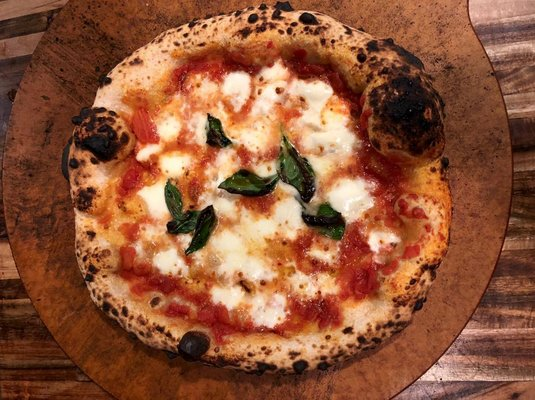sandwich: (65, 6, 468, 379)
